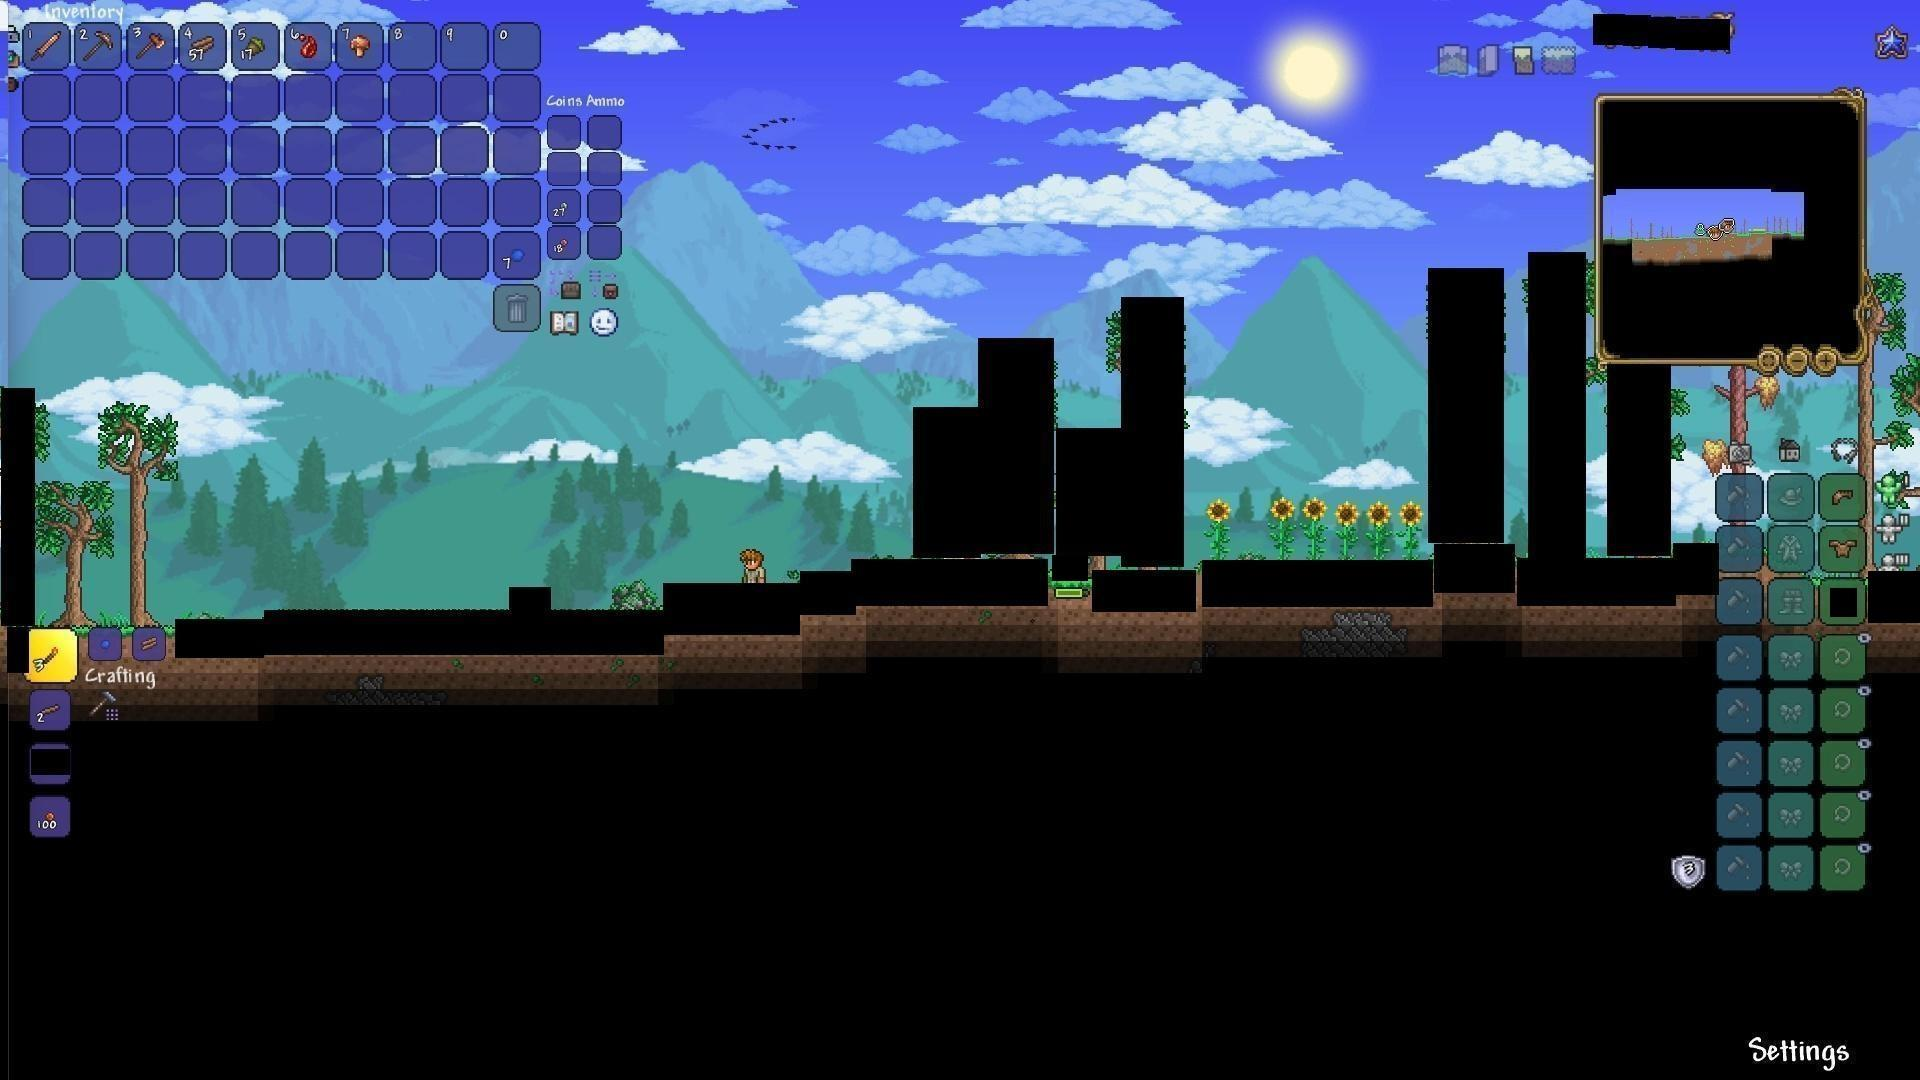breastplate: (1830, 537, 1859, 559)
helmet: (1829, 484, 1857, 509)
tree: (117, 393, 171, 629), (34, 473, 113, 622)
wood: (135, 632, 165, 659), (189, 32, 218, 59)
